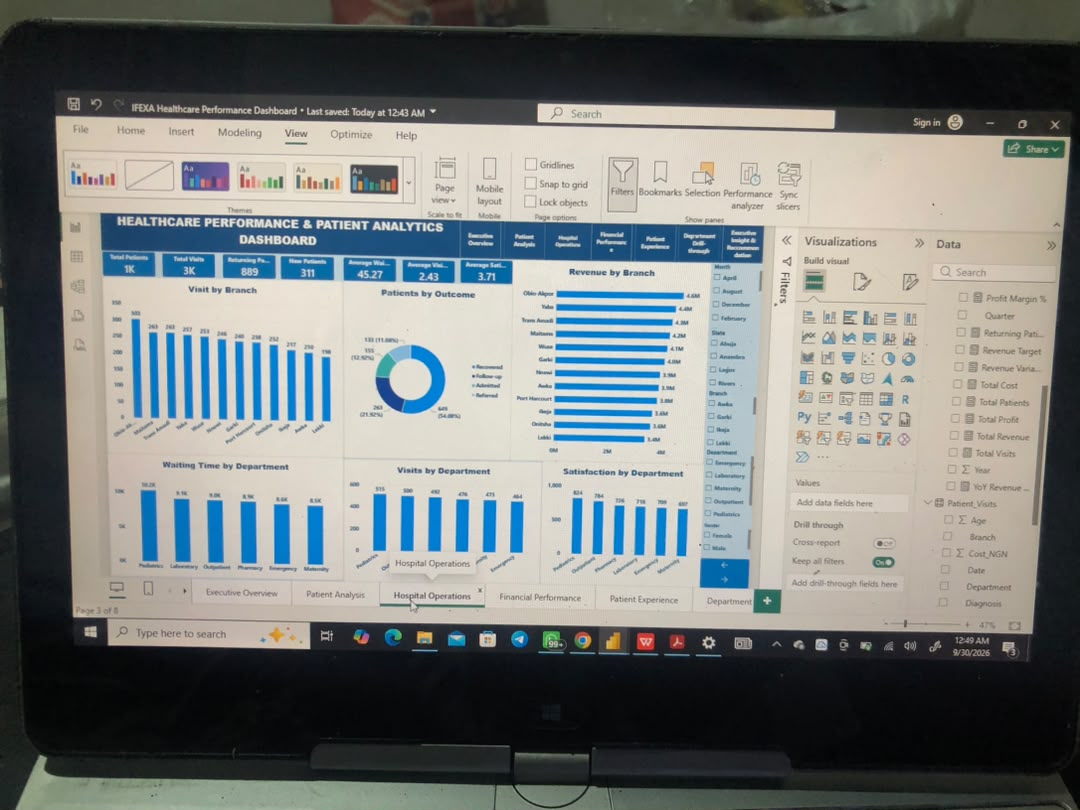

The dashboard page shown, as its layout file describes it:
{"tool":"powerbi","page":{"name":"Hospital Operations","canvas":[1920,1080],"ordinal":2},"visuals":[{"type":"clusteredColumnChart","title":"Visits by Department","fields":{"Category":["Patient_Visits.Department"],"Y":["Date_Table.Total Visits"]},"box":[699.4,705.8,588.9,374.2],"z":0},{"type":"clusteredColumnChart","title":"Waiting Time by Department","fields":{"Category":["Patient_Visits.Department"],"Y":["Sum(Patient_Visits.Waiting_Time_Min)"]},"box":[0,701.6,699.4,374.2],"z":1000},{"type":"columnChart","title":"Satisfaction by Department","fields":{"Category":["Patient_Visits.Department"],"Y":["Sum(Patient_Visits.Satisfaction_Score)"]},"box":[1288.3,701.6,484.7,378.4],"z":2000},{"type":"donutChart","title":"Patients by Outcome","fields":{"Category":["Patient_Visits.Outcome"],"Y":["Date_Table.Total Patients"]},"box":[700,180,492.5,522.5],"z":3000},{"type":"clusteredBarChart","title":"Revenue by Branch","fields":{"Category":["Patient_Visits.Branch"],"Y":["Date_Table.Total Revenue"]},"box":[1192.5,107.5,580,595],"z":4000},{"type":"clusteredColumnChart","title":"Visit by Branch","fields":{"Category":["Patient_Visits.Branch"],"Y":["Date_Table.Total Visits"]},"box":[0,182.5,700,520],"z":5000},{"type":"slicer","fields":{"Values":["Patient_Visits.State"]},"box":[1773.1,299.8,146.7,178.6],"z":6000},{"type":"slicer","fields":{"Values":["Date_Table.Month"]},"box":[1772.5,107.5,147.5,187.5],"z":7000},{"type":"slicer","fields":{"Values":["Patient_Visits.Branch"]},"box":[1773.1,478.3,146.7,176.5],"z":8000},{"type":"slicer","fields":{"Values":["Patient_Visits.Department"]},"box":[1773.1,654.8,146.7,208.3],"z":9000},{"type":"slicer","fields":{"Values":["Patient_Visits.Gender"]},"box":[1773.1,880.2,146.7,91.4],"z":10000},{"type":"actionButton","box":[1773.1,1024.7,146.7,55.3],"z":11000},{"type":"pageNavigator","box":[1037.5,0,882.5,107.5],"z":12000},{"type":"textbox","box":[0,0,1037.5,107.5],"z":13000},{"type":"cardVisual","fields":{"Data":["Date_Table.Total Patients"]},"box":[0,107.5,157.3,74.4],"z":14000},{"type":"cardVisual","fields":{"Data":["Date_Table.Total Visits"]},"box":[175,110,157.5,72.5],"z":15000},{"type":"cardVisual","fields":{"Data":["Date_Table.Returning Patients"]},"box":[350,110,157.3,72.3],"z":16000},{"type":"cardVisual","fields":{"Data":["Date_Table.New Patients"]},"box":[520,112.5,157.3,70.2],"z":17000},{"type":"cardVisual","fields":{"Data":["Date_Table.Average Waiting Time"]},"box":[700,112.5,155.2,70.2],"z":18000},{"type":"cardVisual","fields":{"Data":["Date_Table.Average Visits per Patient"]},"box":[870,115,155,67.5],"z":19000},{"type":"cardVisual","fields":{"Data":["Date_Table.Average Satisfaction"]},"box":[1037.5,110,155.2,70.2],"z":20000},{"type":"actionButton","box":[1773.1,988.6,146.7,40.4],"z":21000}]}

Visuals, with their boxes on the page's 1920x1080 design canvas (x1, y1, x2, y2). These are canvas units, not pixel positions in the 1080x810 screenshot, which may show the page scaled, cropped or inside an application window:
"Visits by Department" clusteredColumnChart: 699:706:1288:1080
"Waiting Time by Department" clusteredColumnChart: 0:702:699:1076
"Satisfaction by Department" columnChart: 1288:702:1773:1080
"Patients by Outcome" donutChart: 700:180:1192:702
"Revenue by Branch" clusteredBarChart: 1192:108:1772:702
"Visit by Branch" clusteredColumnChart: 0:182:700:702
slicer - Patient_Visits.State: 1773:300:1920:478
slicer - Date_Table.Month: 1772:108:1920:295
slicer - Patient_Visits.Branch: 1773:478:1920:655
slicer - Patient_Visits.Department: 1773:655:1920:863
slicer - Patient_Visits.Gender: 1773:880:1920:972
actionButton: 1773:1025:1920:1080
pageNavigator: 1038:0:1920:108
textbox: 0:0:1038:108
cardVisual - Date_Table.Total Patients: 0:108:157:182
cardVisual - Date_Table.Total Visits: 175:110:332:182
cardVisual - Date_Table.Returning Patients: 350:110:507:182
cardVisual - Date_Table.New Patients: 520:112:677:183
cardVisual - Date_Table.Average Waiting Time: 700:112:855:183
cardVisual - Date_Table.Average Visits per Patient: 870:115:1025:182
cardVisual - Date_Table.Average Satisfaction: 1038:110:1193:180
actionButton: 1773:989:1920:1029
